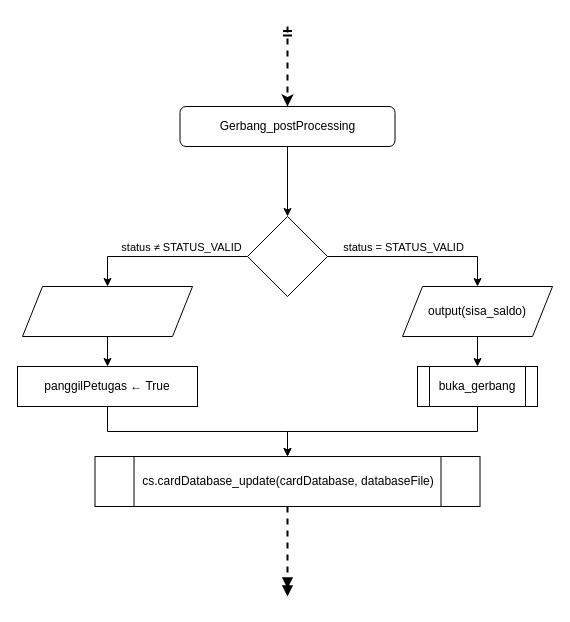
This 570x622 diagram has some shape labels left out. The box of each missing label's shape, as (x1, y1, x2, y2) in pixels:
output(transaksi_gagal): (22, 286, 192, 336)
status: (246, 216, 328, 296)
